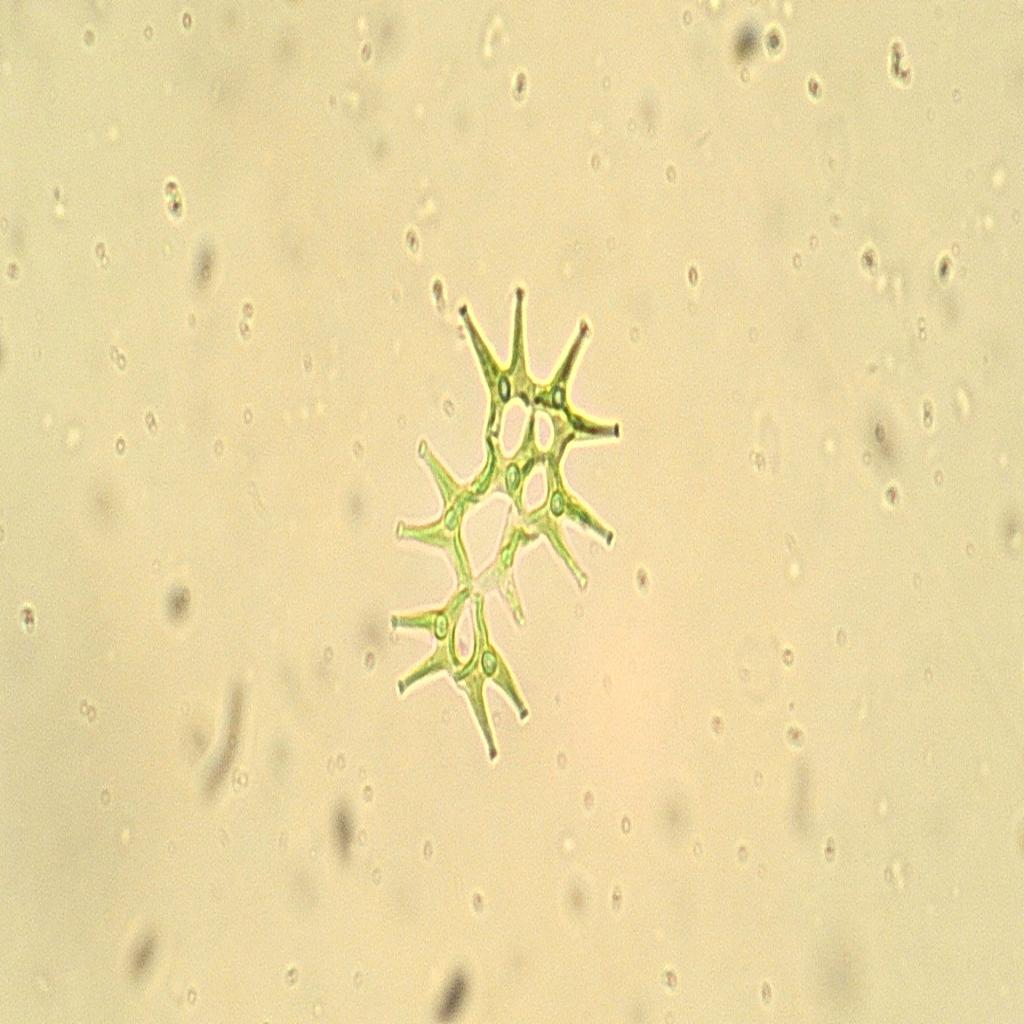Pediastrum_CFI: (375, 254, 627, 788)
